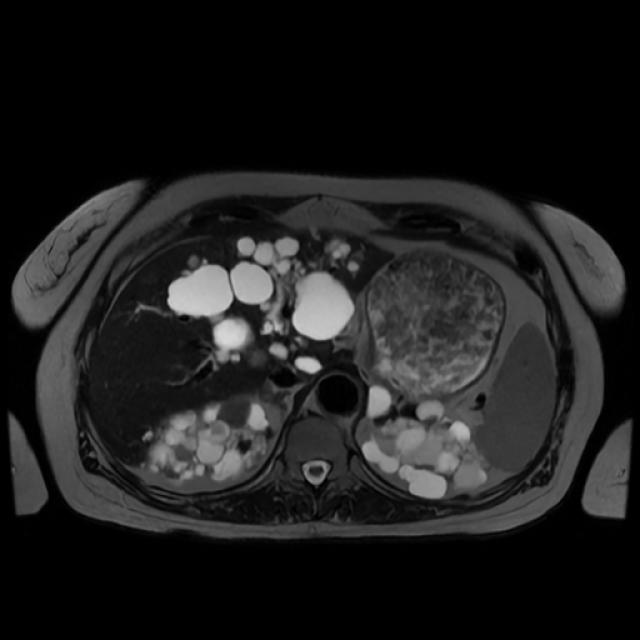sag: (145, 396, 286, 484)
sol: (362, 384, 493, 501)
